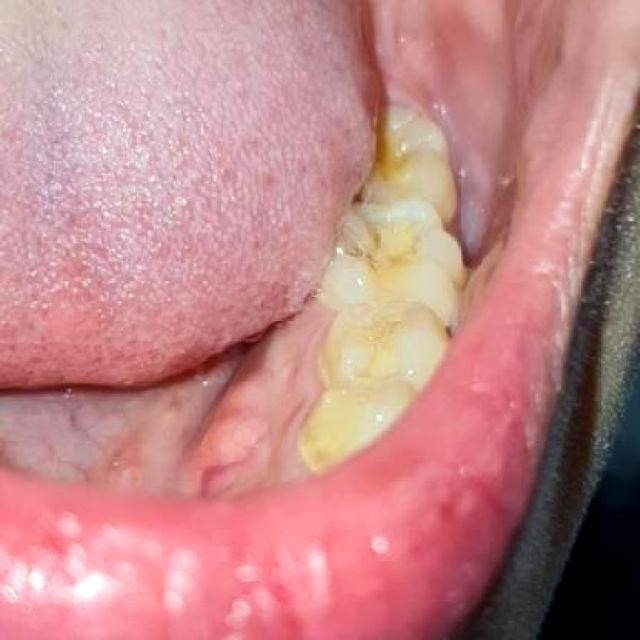Plaque: (352, 211, 424, 271)
